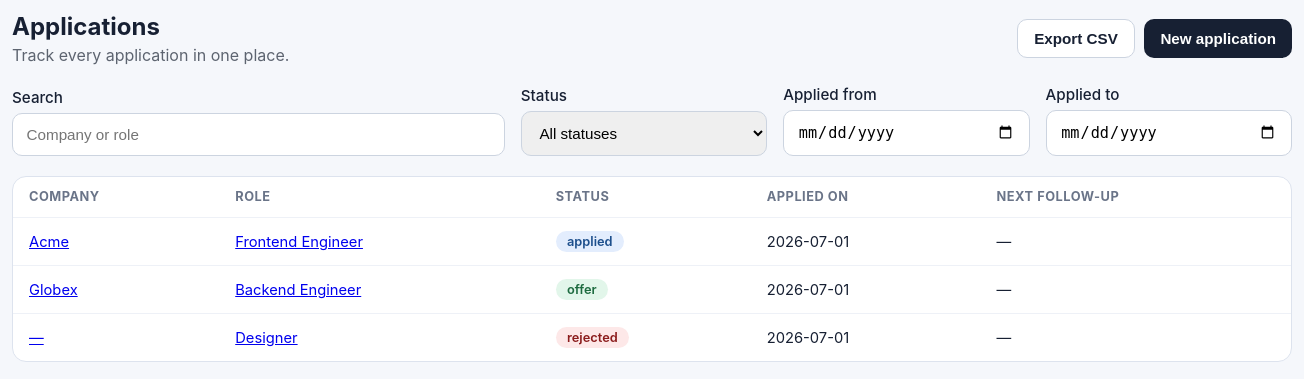
Test: ApplicationsPage › filters by search text
Expected: the cell "Acme" is shown, [13,218,219,266]
Type "globex" into the field labelled "Search".
click(258, 134); type("globex")  # box [12,113,505,156]
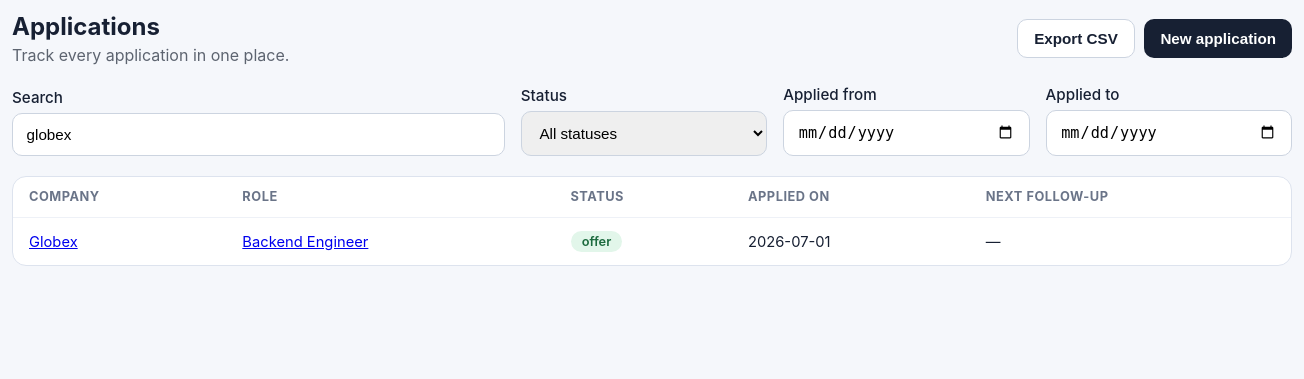
Expected: the cell "Globex" is shown, [13,218,226,265]
Now the link "Acme" is gone
